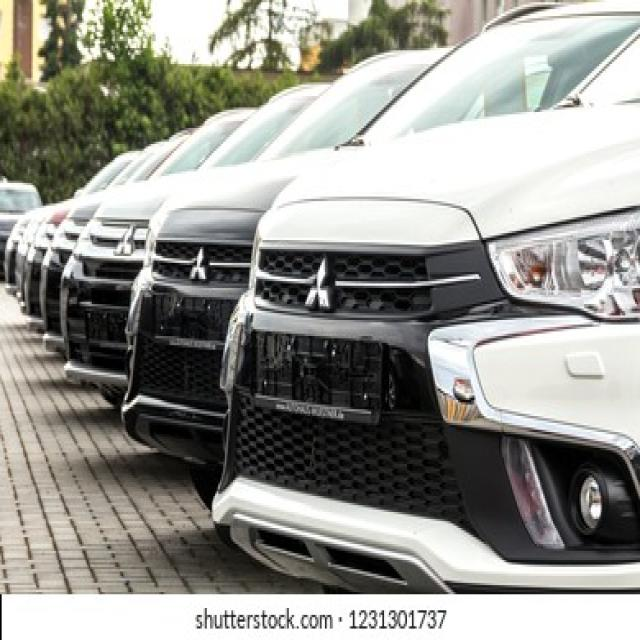mitsubishi: (307, 255, 338, 308), (187, 245, 210, 287), (113, 221, 139, 257)
